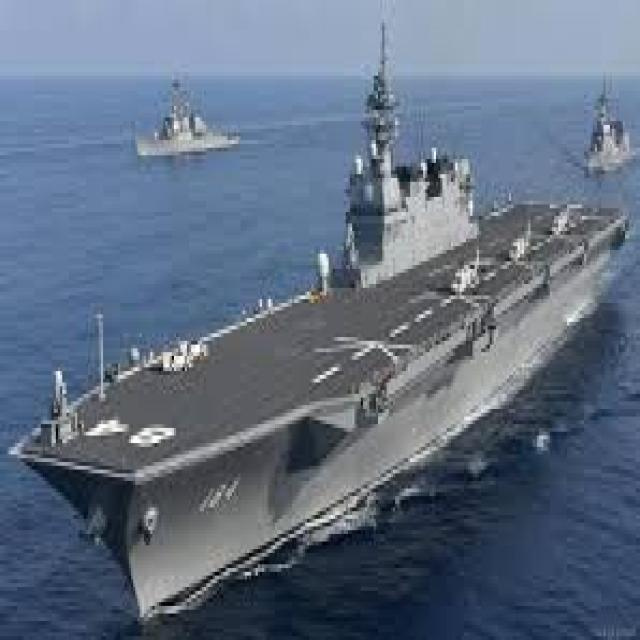navalvessels: (20, 43, 638, 610), (131, 76, 244, 166), (583, 70, 640, 176)
